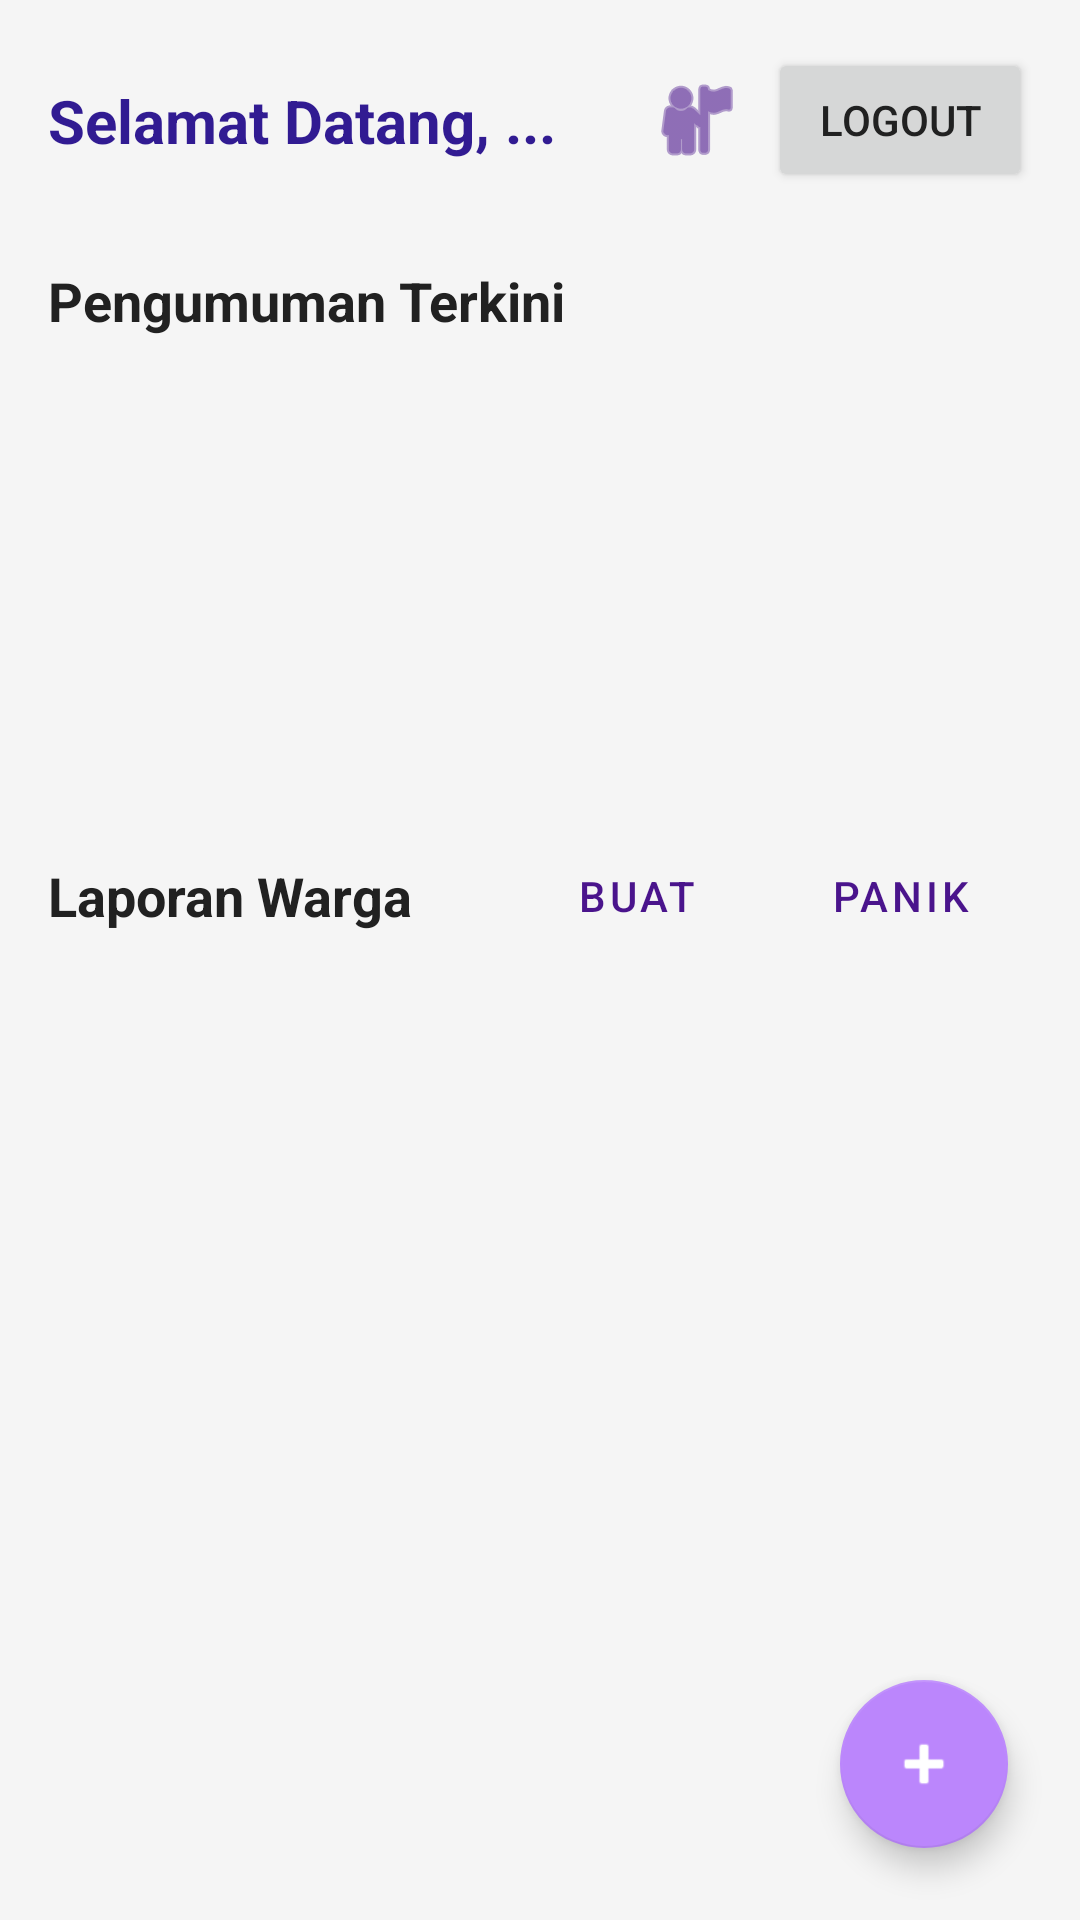

Screen size 1080 x 1920. Icon name, then its center in pixels as (x,y):
Buat Laporan Baru: (924,1764)
Buka Profil: (697,120)
